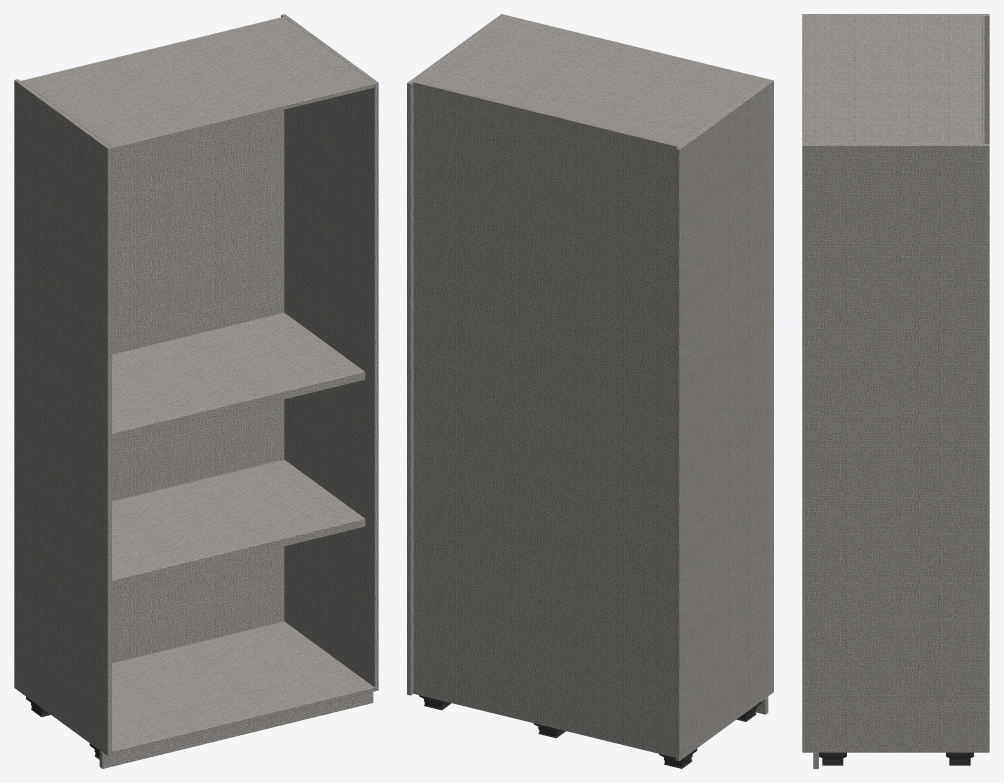
File: cbib12119.gltf
3 renders of one model, left to right at view 1: azimuth 30°, elevation 25°; view 2: azimuth 150°, elevation 25°; view 3: azimuth 270°, elevation 25°, orthographic.
Visible parts, largest first — view 1: CBIB12119; view 2: CBIB12119; view 3: CBIB12119.
Part boxes in pixels (bbox=[...]): CBIB12119: bbox=[14, 14, 378, 768]; CBIB12119: bbox=[407, 14, 773, 768]; CBIB12119: bbox=[802, 14, 989, 768].
Bounding box in the file's own units: 1 × 2.2 × 0.6.
3 materials, 2 textured.
